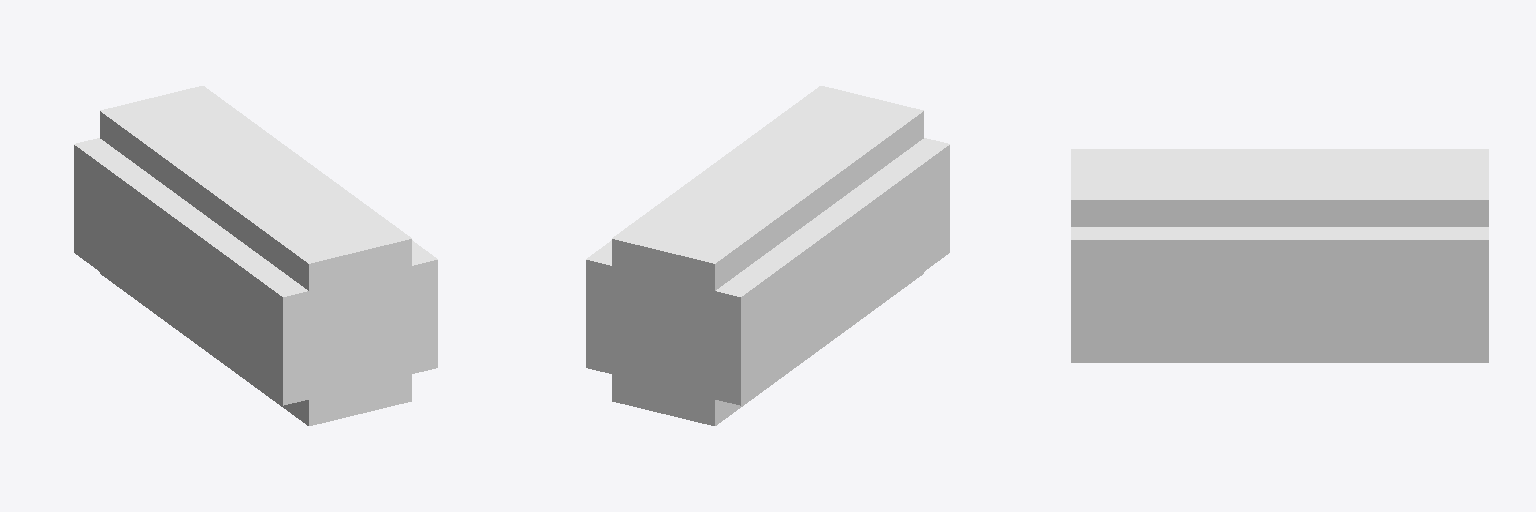
Rendered from can_2.obj.
3 renders of one model, left to right at view 1: azimuth 30°, elevation 25°; view 2: azimuth 150°, elevation 25°; view 3: azimuth 270°, elevation 25°, orthographic.
Visible parts, largest first — view 1: object 1; view 2: object 1; view 3: object 1.
Part boxes in pixels (bbox=[...]): object 1: bbox=[74, 86, 437, 425]; object 1: bbox=[586, 86, 949, 425]; object 1: bbox=[1071, 149, 1488, 362].
Bounding box in the file's own units: 0.6 × 0.6 × 1.4.